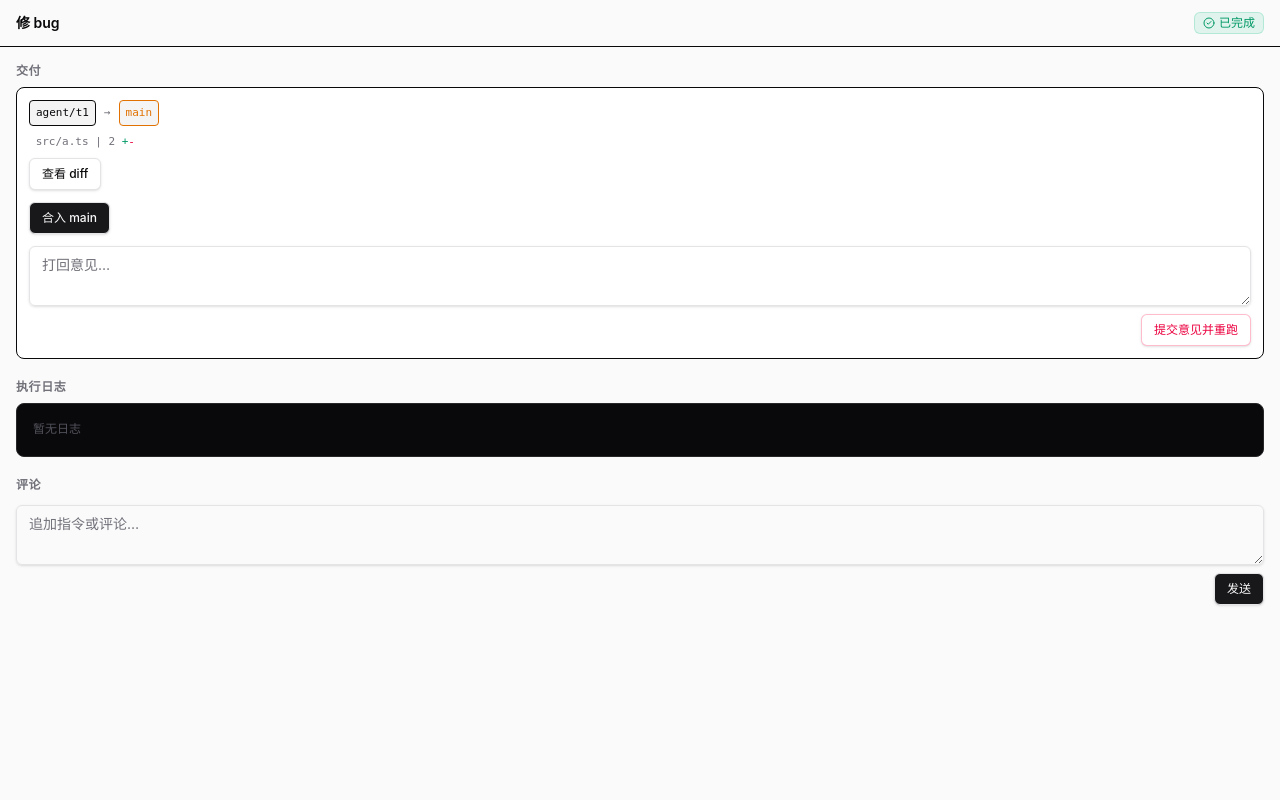
Scenario: TaskPanel › 计时保存失败仍合入，并附失效标记及持久警告
Click the button "合入 main" at (69, 218), box [29, 202, 110, 234]
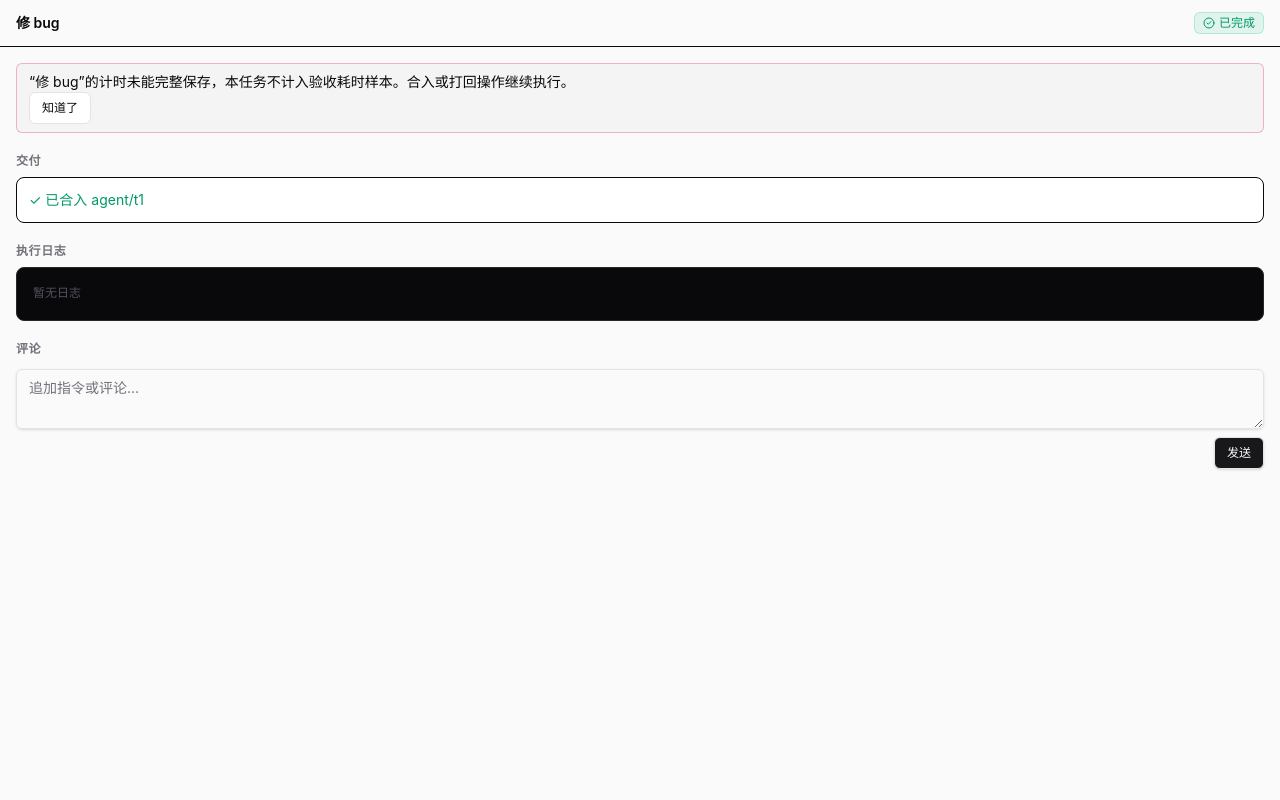
Expected: the text "✓ 已合入 agent/t1" is shown, [29, 191, 144, 208]
Expected: the message shows "不计入验收耗时样本", [29, 73, 575, 90]
